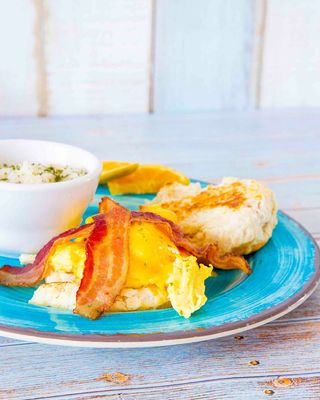sushi: (0, 138, 102, 266)
